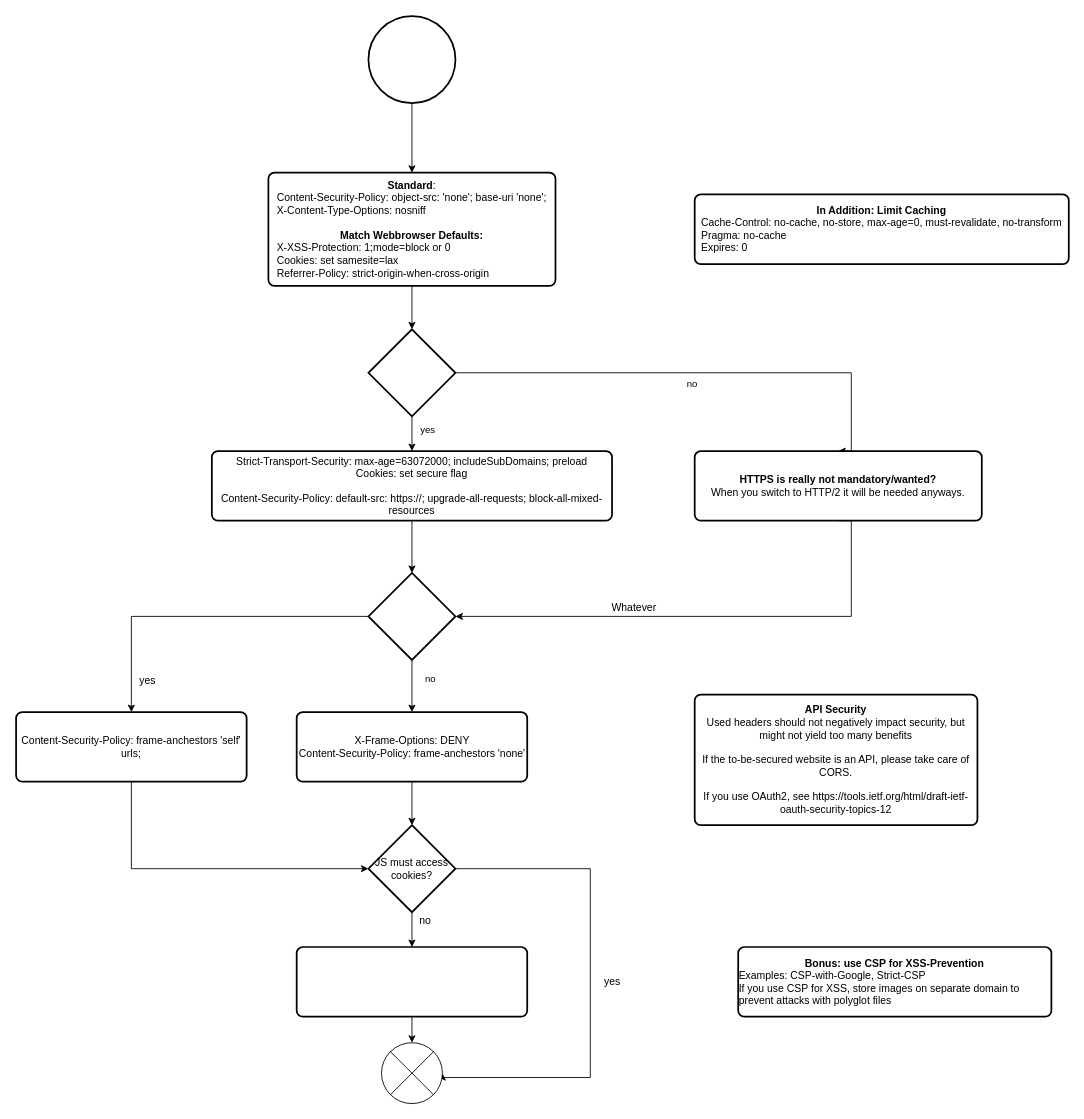
This 1084x1119 diagram has some shape labels left out. The shapes that lost their labels are listed below. From the top down, each one's box as (x1, y1, x2, y2) in pixels, then its label:
(367, 328, 456, 417): HTTPS?
(367, 572, 456, 660): used within iframe?
(295, 946, 528, 1017): Cookies: set httpOnly flag
